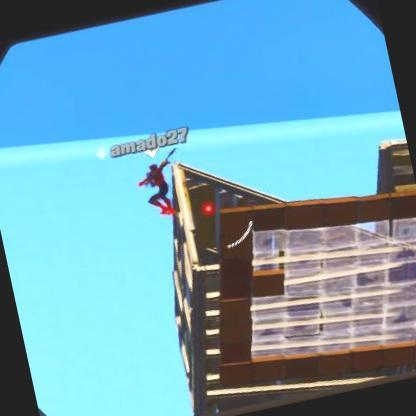person: (134, 158, 182, 216)
